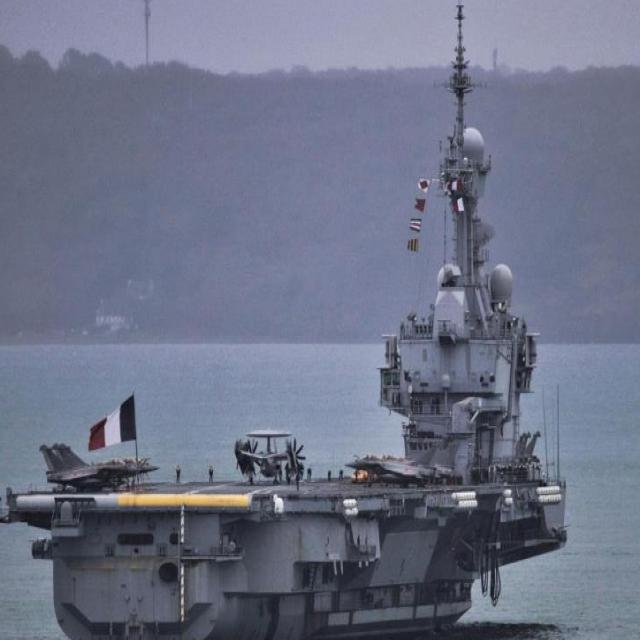Portanaves: (1, 1, 570, 640)
